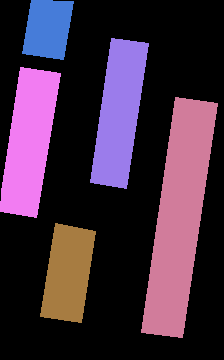parkingspot: (141, 97, 217, 337), (0, 67, 60, 217), (90, 38, 148, 188), (40, 223, 95, 322), (22, 0, 73, 59)
